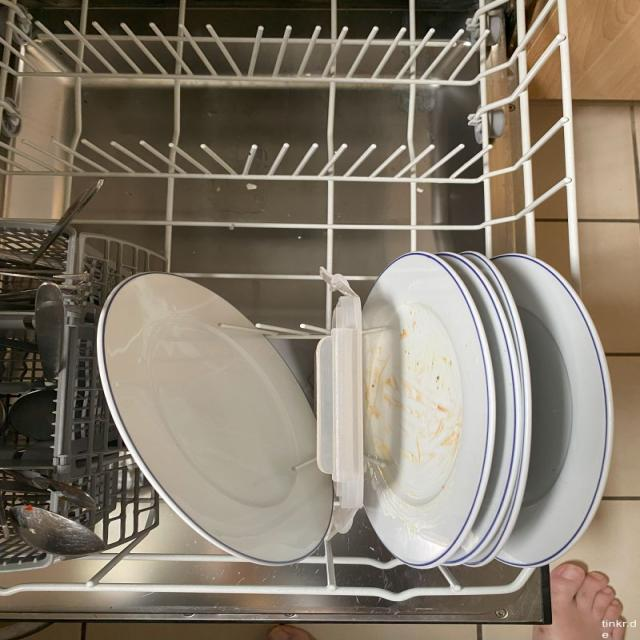clutery_bin: (2, 233, 75, 572)
empty_slot: (3, 0, 564, 226)
